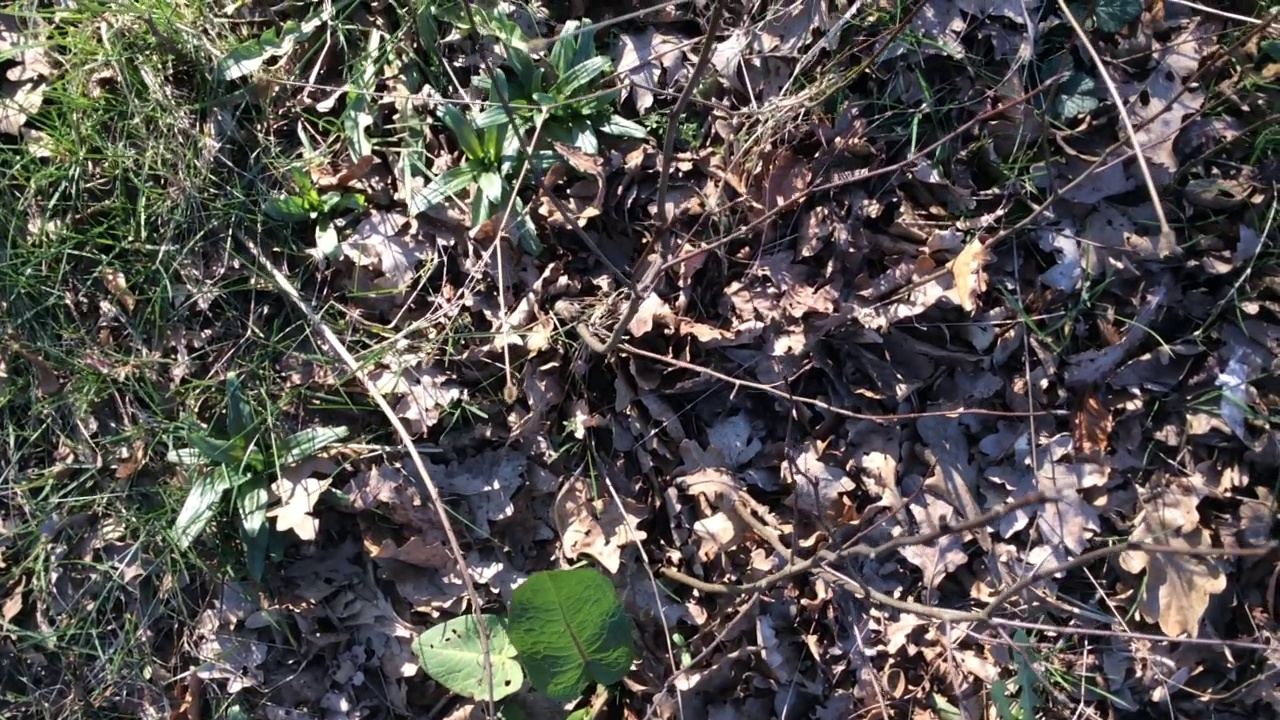rumex: (410, 571, 637, 720)
